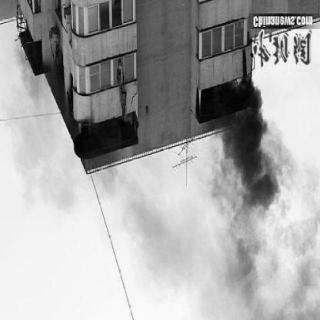Fire: (232, 73, 244, 97), (120, 116, 132, 126)
Smoke: (228, 109, 268, 207), (224, 245, 260, 317), (290, 263, 312, 309)
other: (248, 26, 314, 72)
